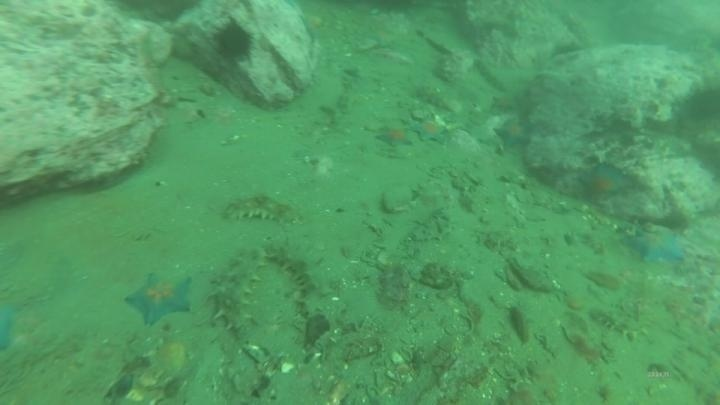echinus: (212, 19, 256, 63), (681, 80, 720, 127)
holothurian: (263, 238, 332, 322), (211, 242, 269, 336), (220, 192, 303, 228), (587, 302, 652, 343), (410, 82, 462, 115)
starfish: (123, 270, 195, 327), (623, 225, 688, 267), (575, 160, 632, 204), (0, 298, 26, 354), (493, 116, 534, 150), (409, 115, 451, 145), (373, 122, 416, 150), (297, 9, 328, 43), (489, 89, 522, 115)
